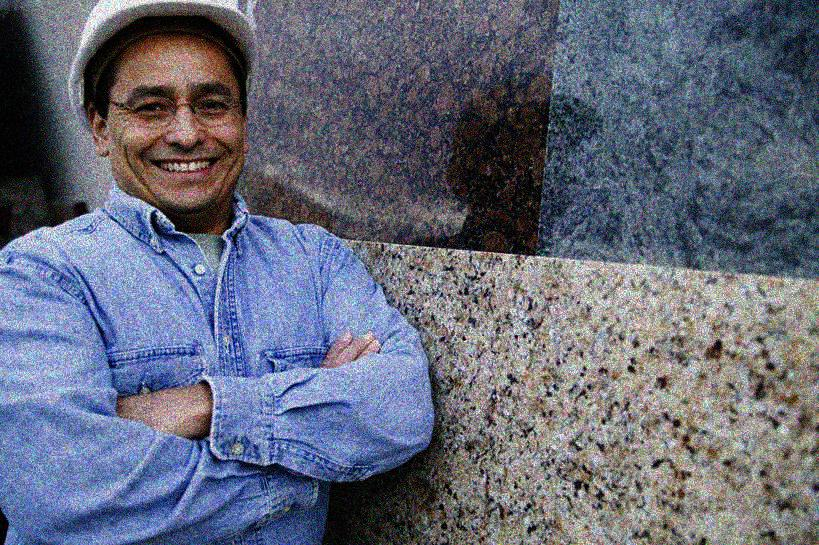helmet: (68, 1, 260, 221)
